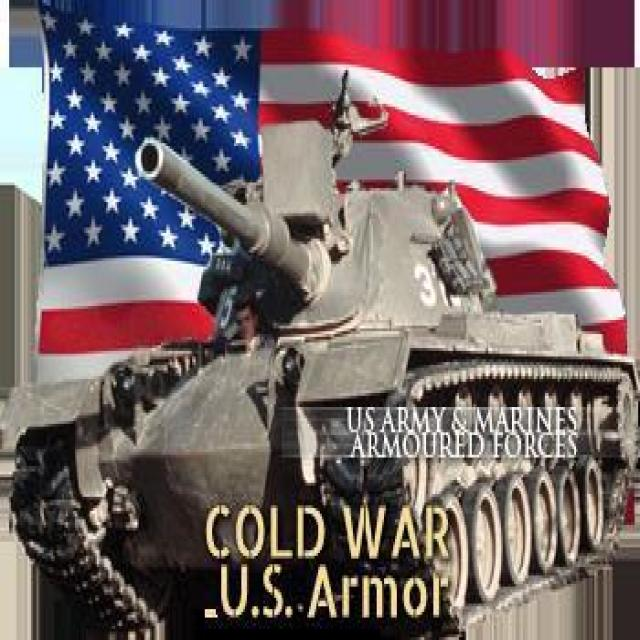Tanks: (67, 166, 630, 590)
